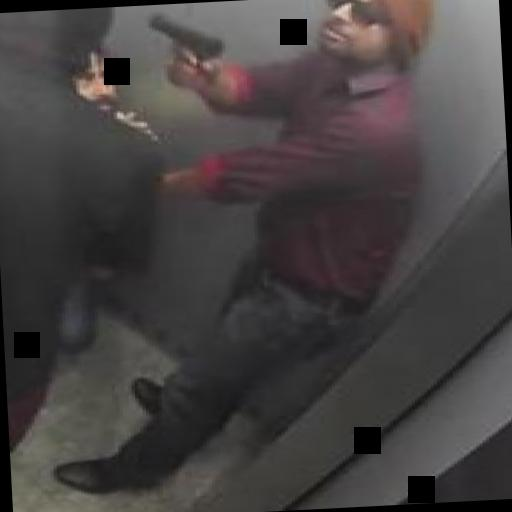Handgun: (142, 10, 228, 90)
